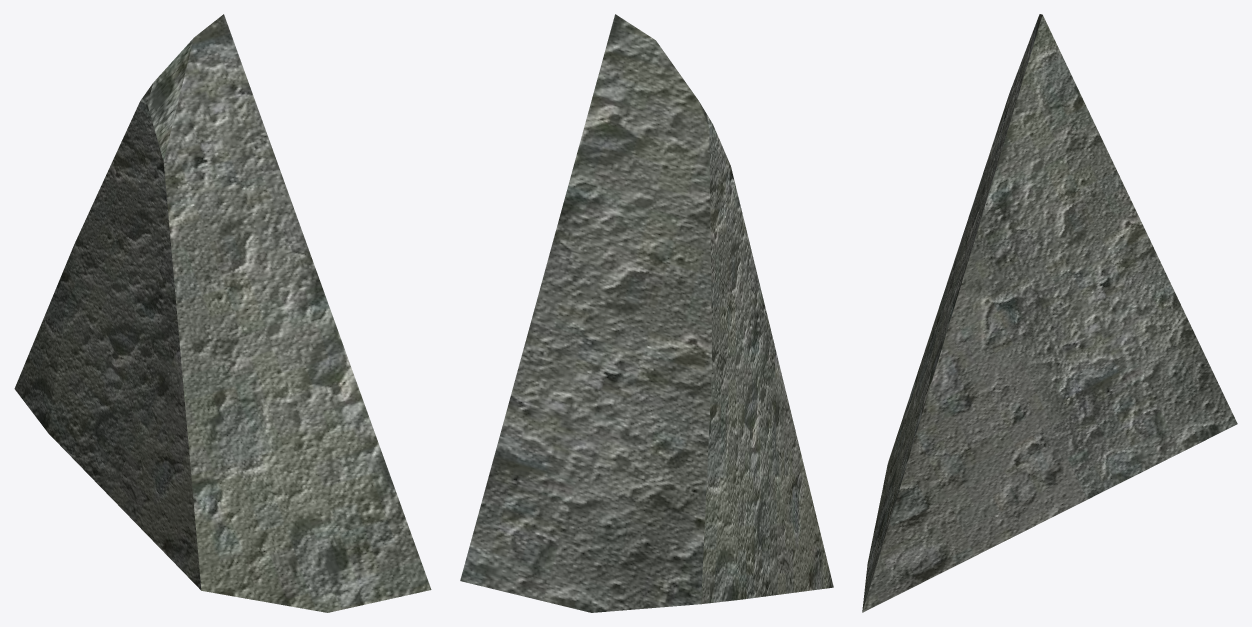
The model's file is Rock_w_1.fbx.
The picture shows the model from 3 angles, left to right: view 1: azimuth 30°, elevation 25°; view 2: azimuth 150°, elevation 25°; view 3: azimuth 270°, elevation 25°; orthographic projection. The views are drawn at different scales.
Visible parts, largest first — view 1: Box001_Part_51.003; view 2: Box001_Part_51.003; view 3: Box001_Part_51.003.
Part boxes in pixels (x1,y1,x2,y2): Box001_Part_51.003: (14,14,431,612); Box001_Part_51.003: (460,14,833,612); Box001_Part_51.003: (862,14,1237,612).
Size of the model in its own units: 79.98 by 160 by 101.
Materials: 1 (1 with a texture image).
